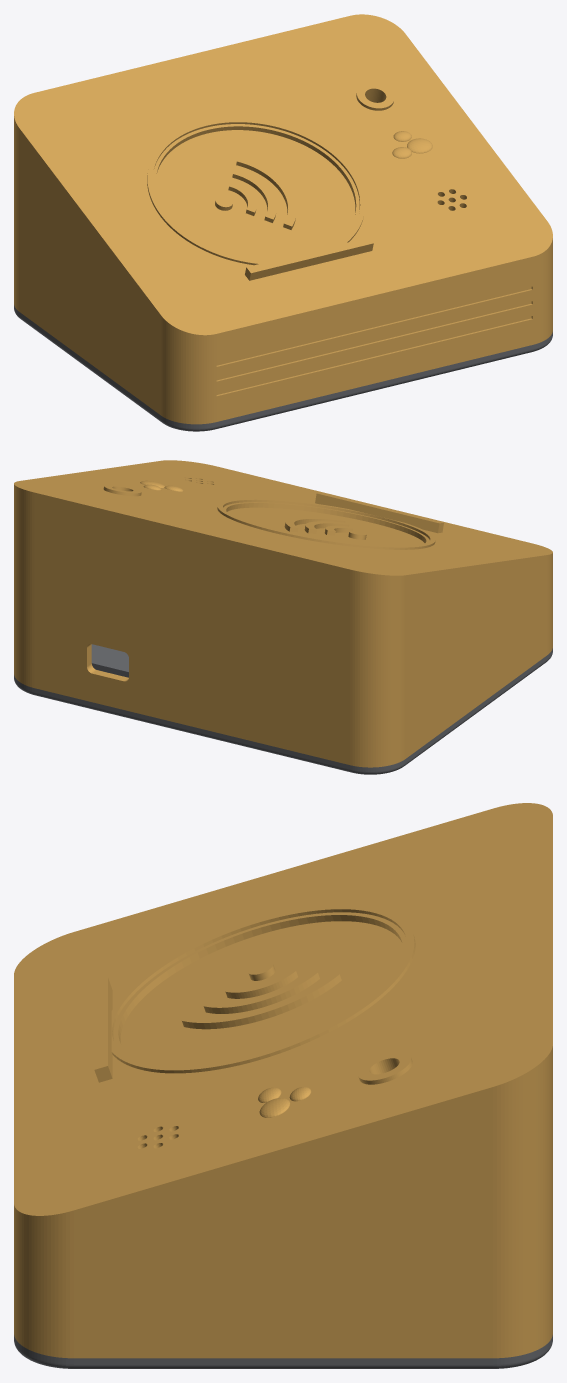
Rendered from admin-desk-unit.glb.
The picture shows the model from 3 angles, top to bottom: view 1: azimuth 30°, elevation 25°; view 2: azimuth 150°, elevation 25°; view 3: azimuth 270°, elevation 25°; orthographic projection. The views are drawn at different scales.
Visible parts, largest first — view 1: admin_shell, admin_bottom_plate; view 2: admin_shell, admin_bottom_plate; view 3: admin_shell, admin_bottom_plate.
Part boxes in pixels (bbox=[...]): admin_shell: bbox=[14, 14, 552, 424]; admin_bottom_plate: bbox=[14, 305, 552, 431]; admin_shell: bbox=[14, 460, 552, 767]; admin_bottom_plate: bbox=[14, 644, 552, 774]; admin_shell: bbox=[14, 803, 552, 1358]; admin_bottom_plate: bbox=[14, 1335, 552, 1368].
Size of the model in its own units: 0.11 by 0.0556 by 0.09.
